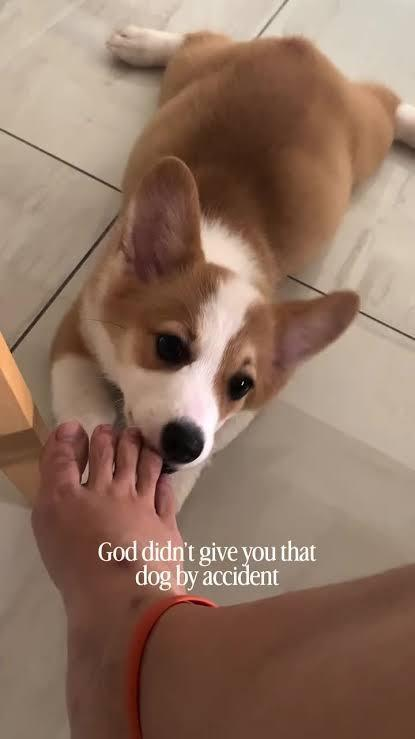adult_dog: (44, 28, 415, 519)
